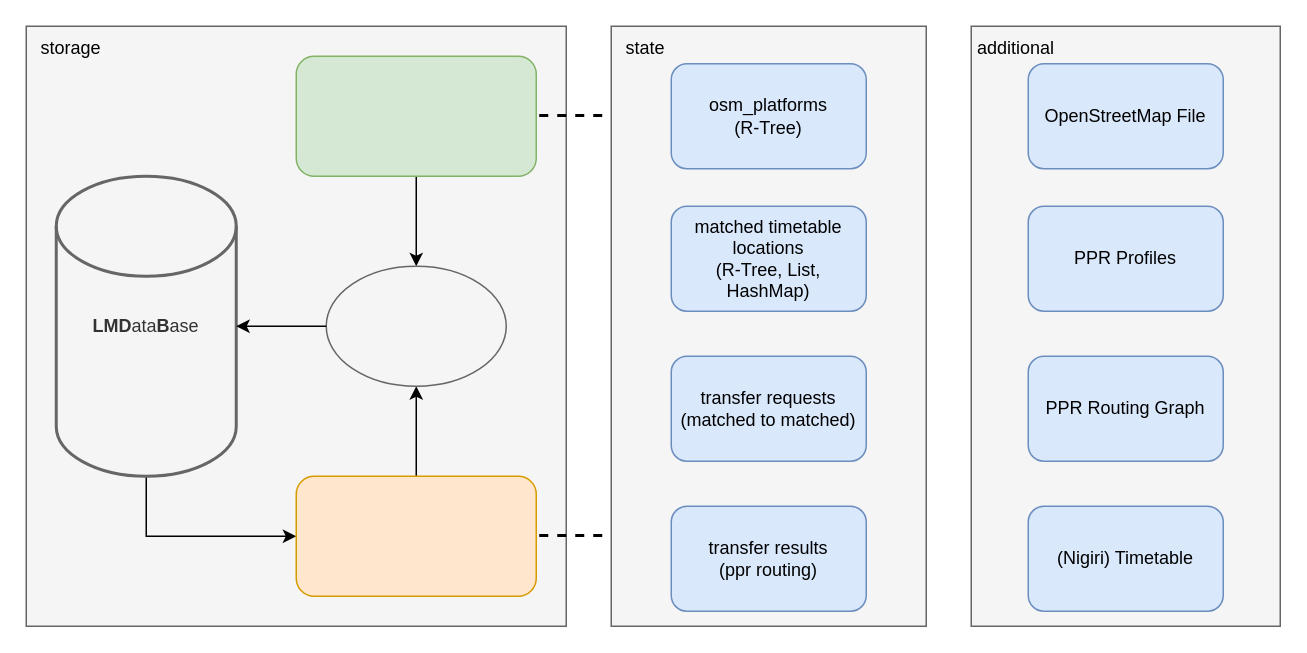
Image size: 1307x653. Some labels were removed from this diagram. The box of each missing label's shape, as (x1, y1, x2, y2) in pixels:
MERGE/COMPARE: (325, 265, 506, 386)
old state: (295, 475, 536, 596)
update state: (295, 55, 536, 176)
